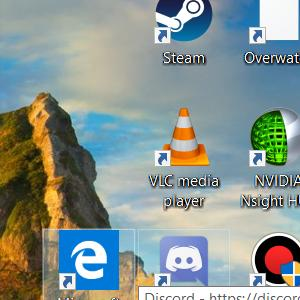edge: (58, 230, 119, 291)
